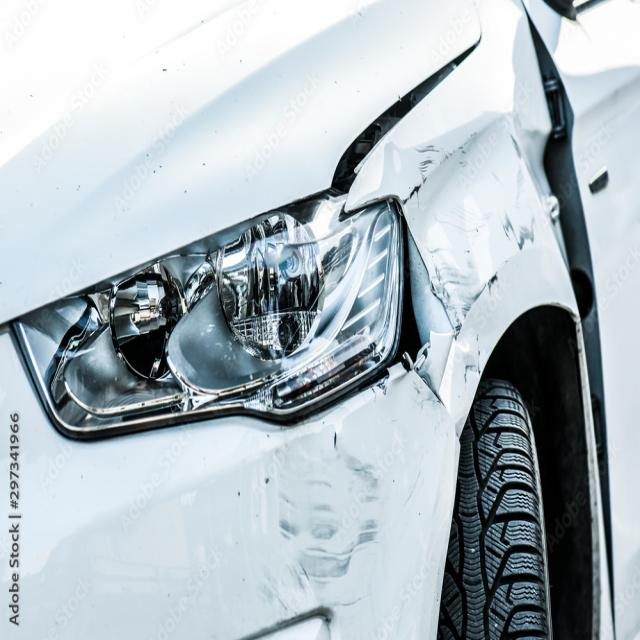Dent: (398, 105, 537, 352)
Head Light: (41, 221, 420, 427)
